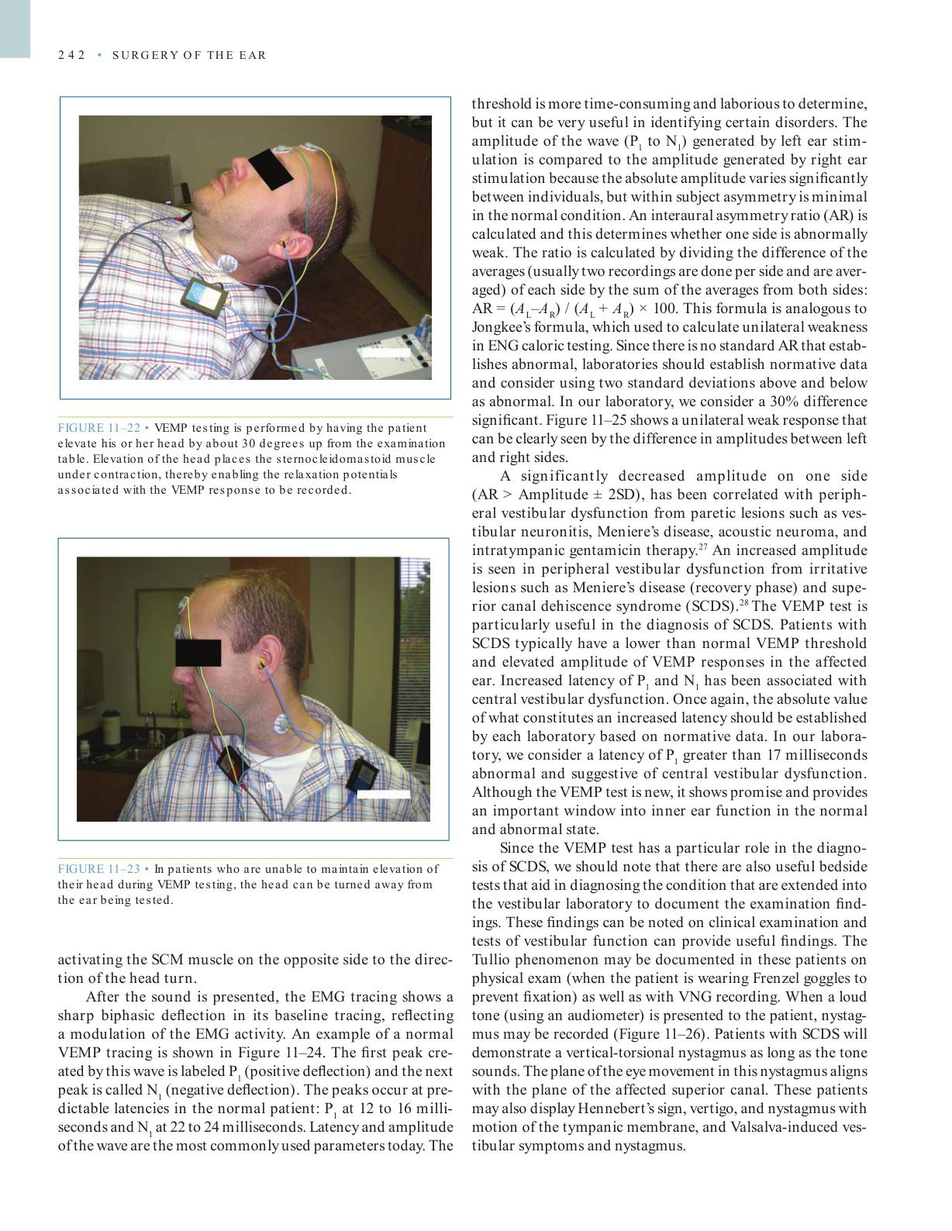caption: (56, 420, 447, 499), (56, 861, 441, 908)
header: (111, 49, 267, 61)
image: (63, 542, 445, 835), (65, 102, 445, 395)
text: (471, 95, 868, 1155), (54, 952, 455, 1156)
